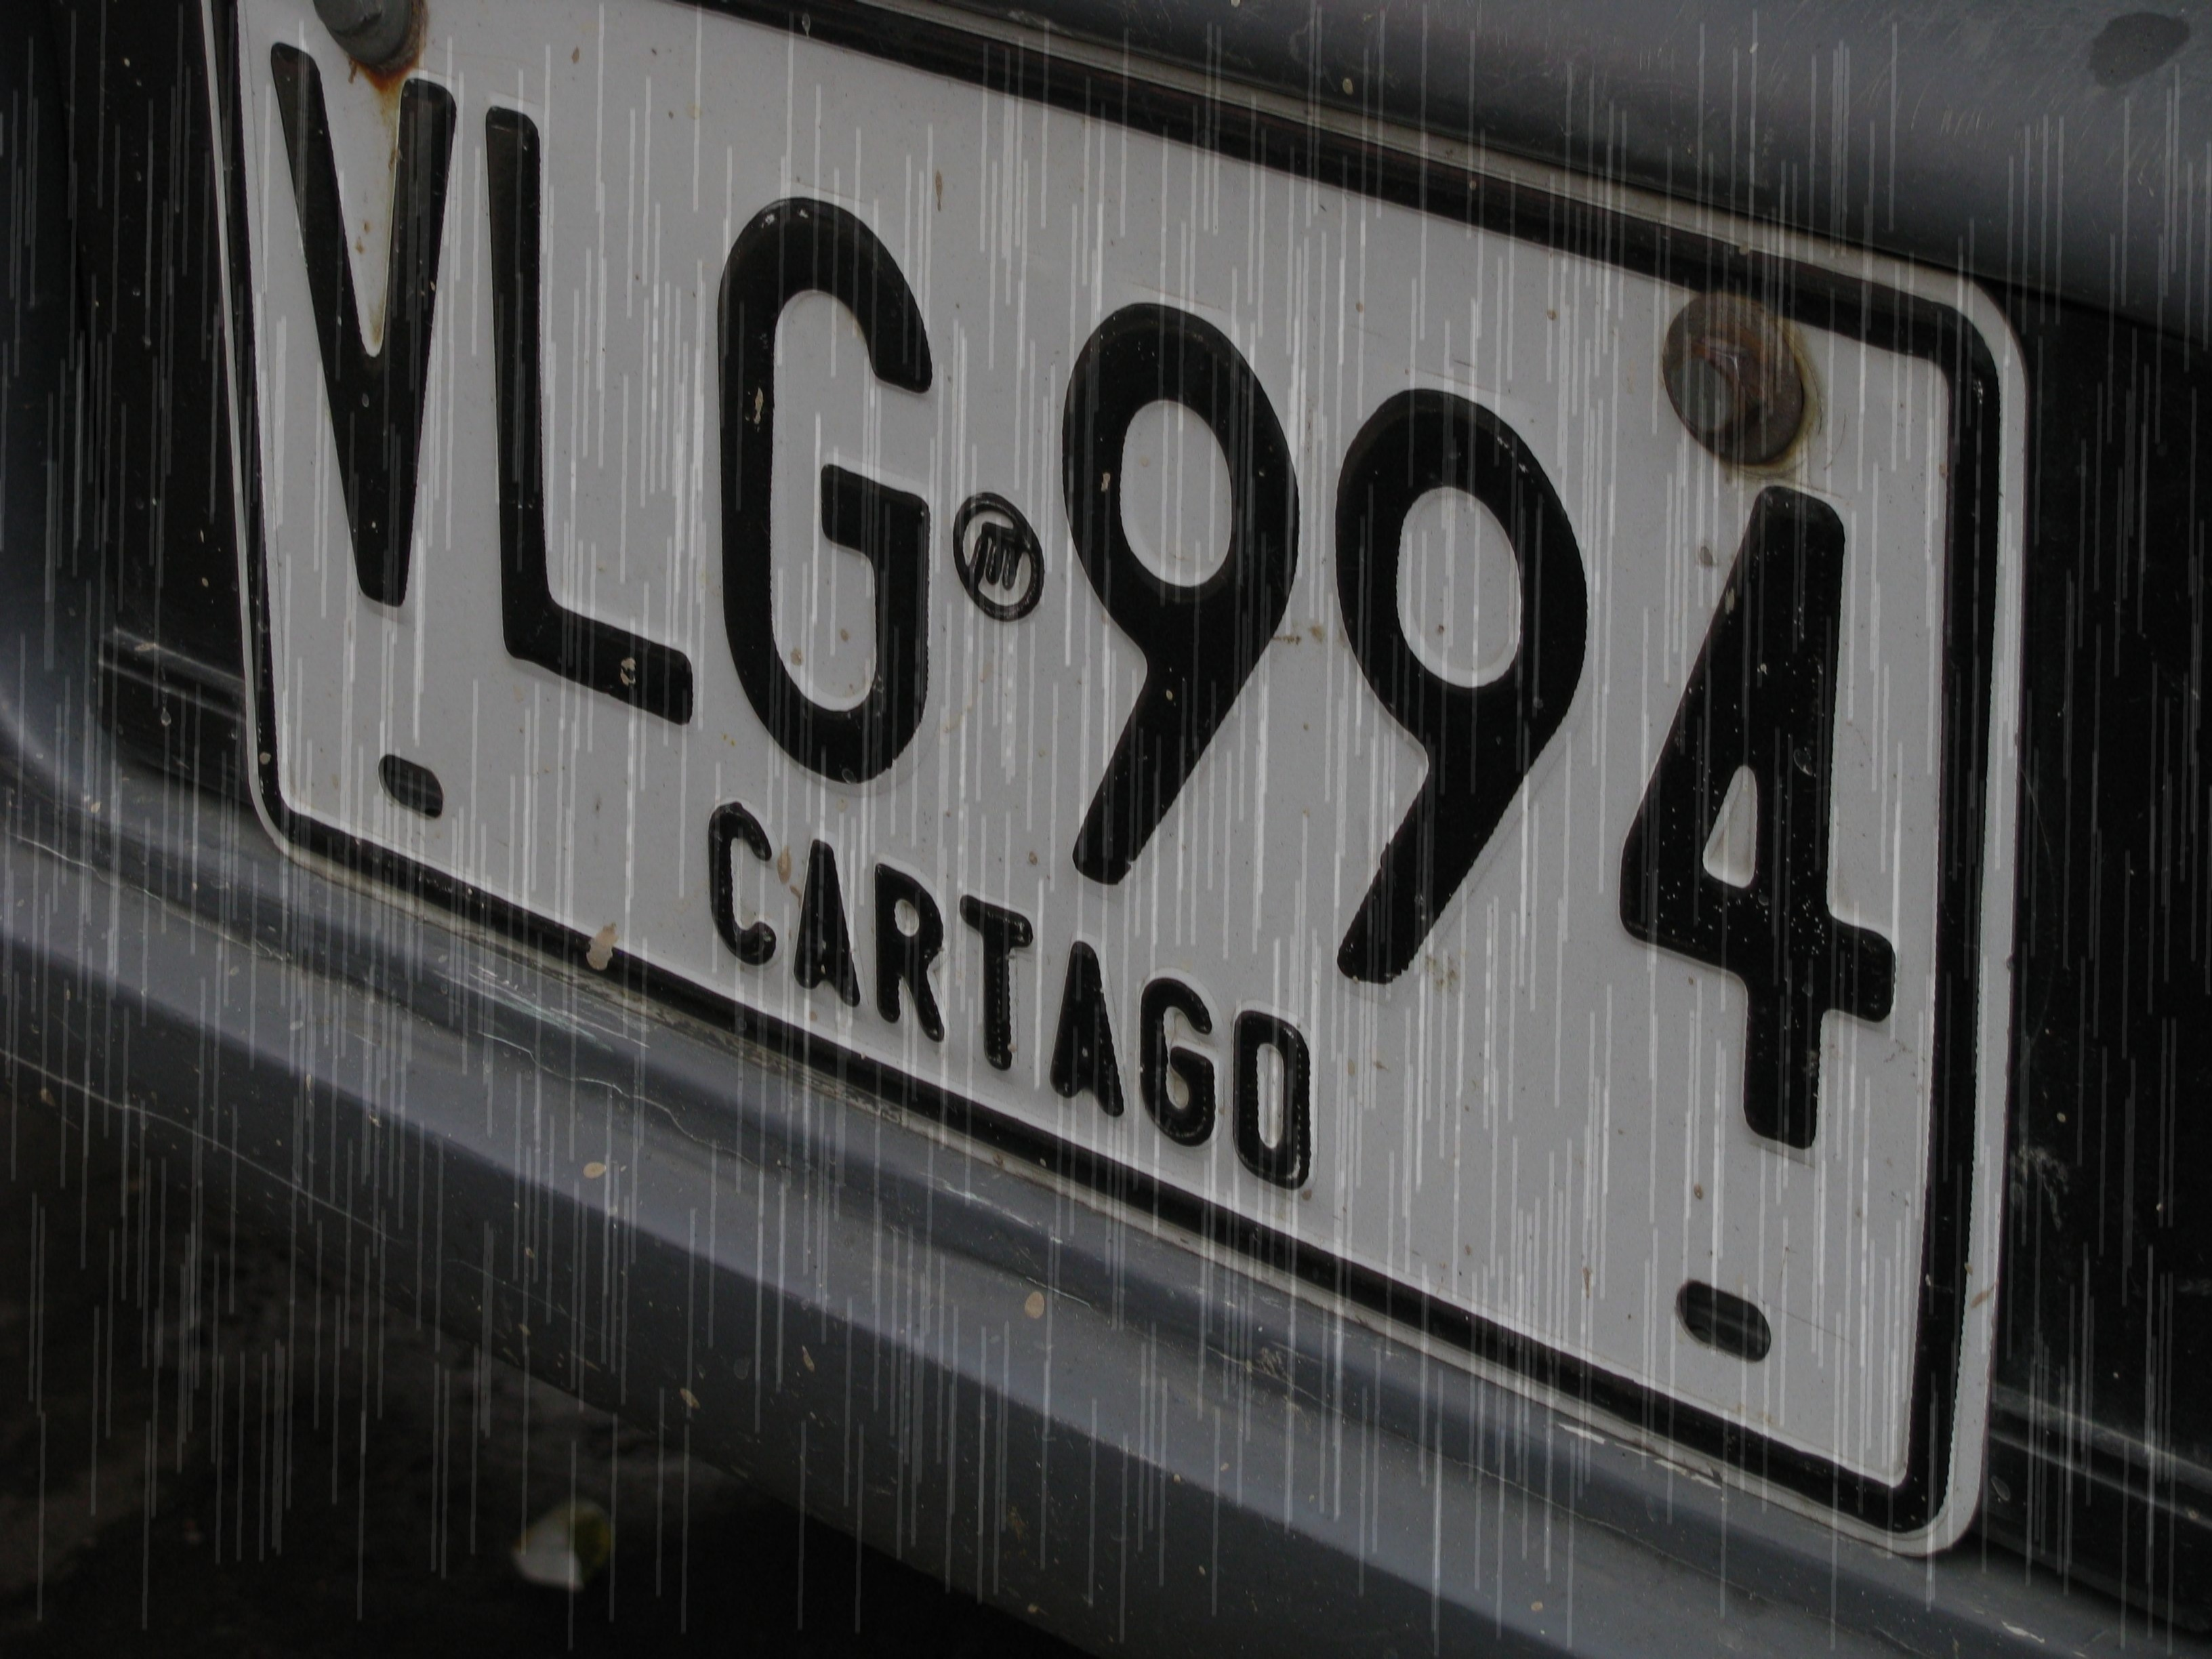placas: (186, 0, 2041, 1586)
